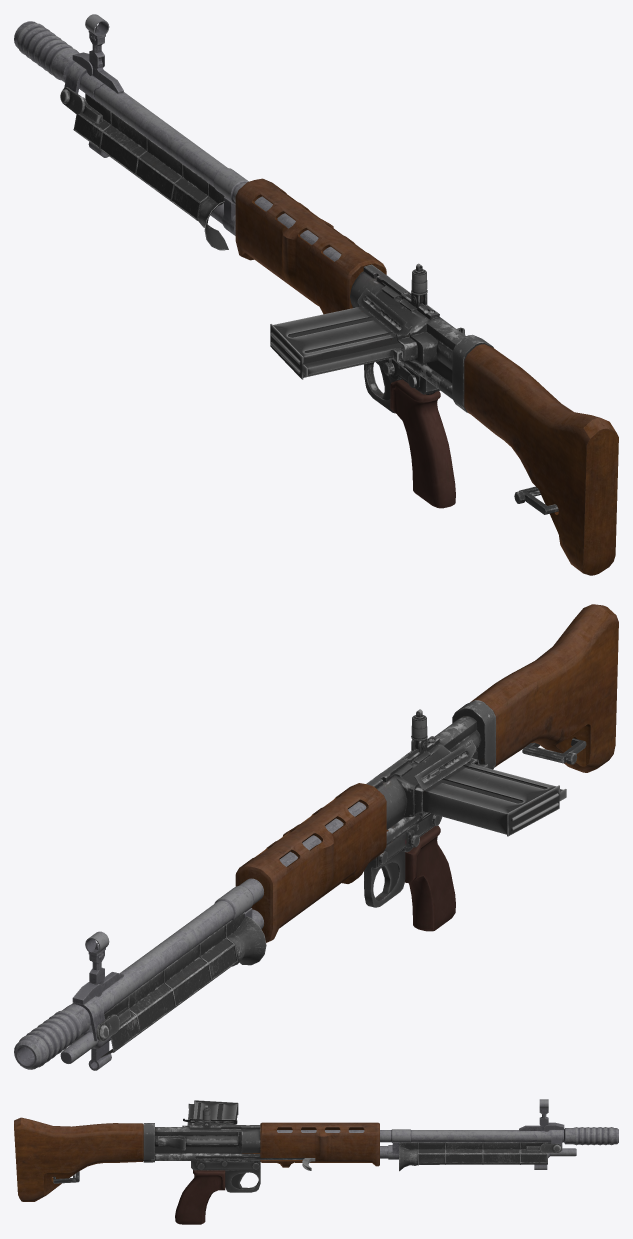
3 renders of one model, top to bottom at view 1: azimuth 30°, elevation 25°; view 2: azimuth 150°, elevation 25°; view 3: azimuth 270°, elevation 25°, orthographic. The views are drawn at different scales.
Parts seen in each view (by area): view 1: Body, Barrel, Bipod, Magazine; view 2: Body, Barrel, Bipod, Magazine; view 3: Body, Barrel, Bipod, Magazine, Ejection_port.
Boxes of the visible parts, bbox=[...] form: Body: bbox=[235, 178, 618, 575]; Barrel: bbox=[14, 14, 341, 261]; Bipod: bbox=[60, 87, 228, 250]; Magazine: bbox=[270, 306, 403, 379]; Body: bbox=[235, 604, 618, 942]; Barrel: bbox=[14, 801, 366, 1070]; Bipod: bbox=[73, 912, 266, 1057]; Magazine: bbox=[423, 763, 566, 836]; Body: bbox=[14, 1117, 379, 1224]; Barrel: bbox=[277, 1099, 618, 1169]; Bipod: bbox=[399, 1142, 562, 1171]; Magazine: bbox=[187, 1100, 238, 1125]; Ejection_port: bbox=[186, 1140, 237, 1144].
Bounding box in the file's own units: 0.1628 × 0.1939 × 0.8698.
Materials: 10 (10 with a texture image).
